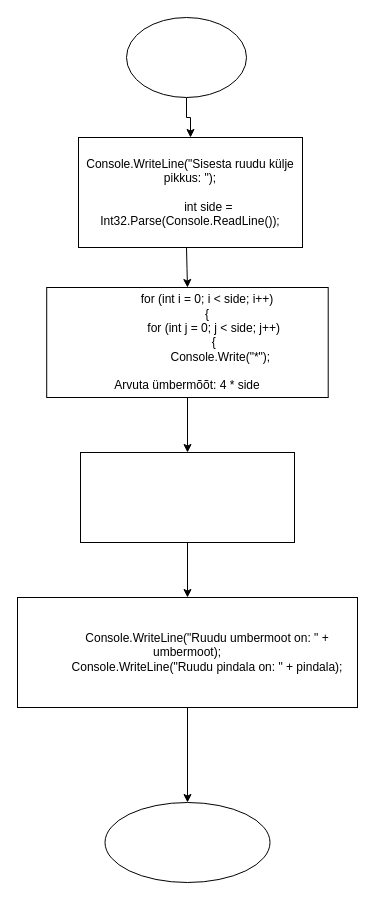
Some shapes in this 375 by 900 pixel diagram are drawn without their labels. The centre of each missing label's shape, as x and y in pixels:
int umbermoot = 4 * side; int pindala = side * side;: (187,497)
Start: (186,57)
